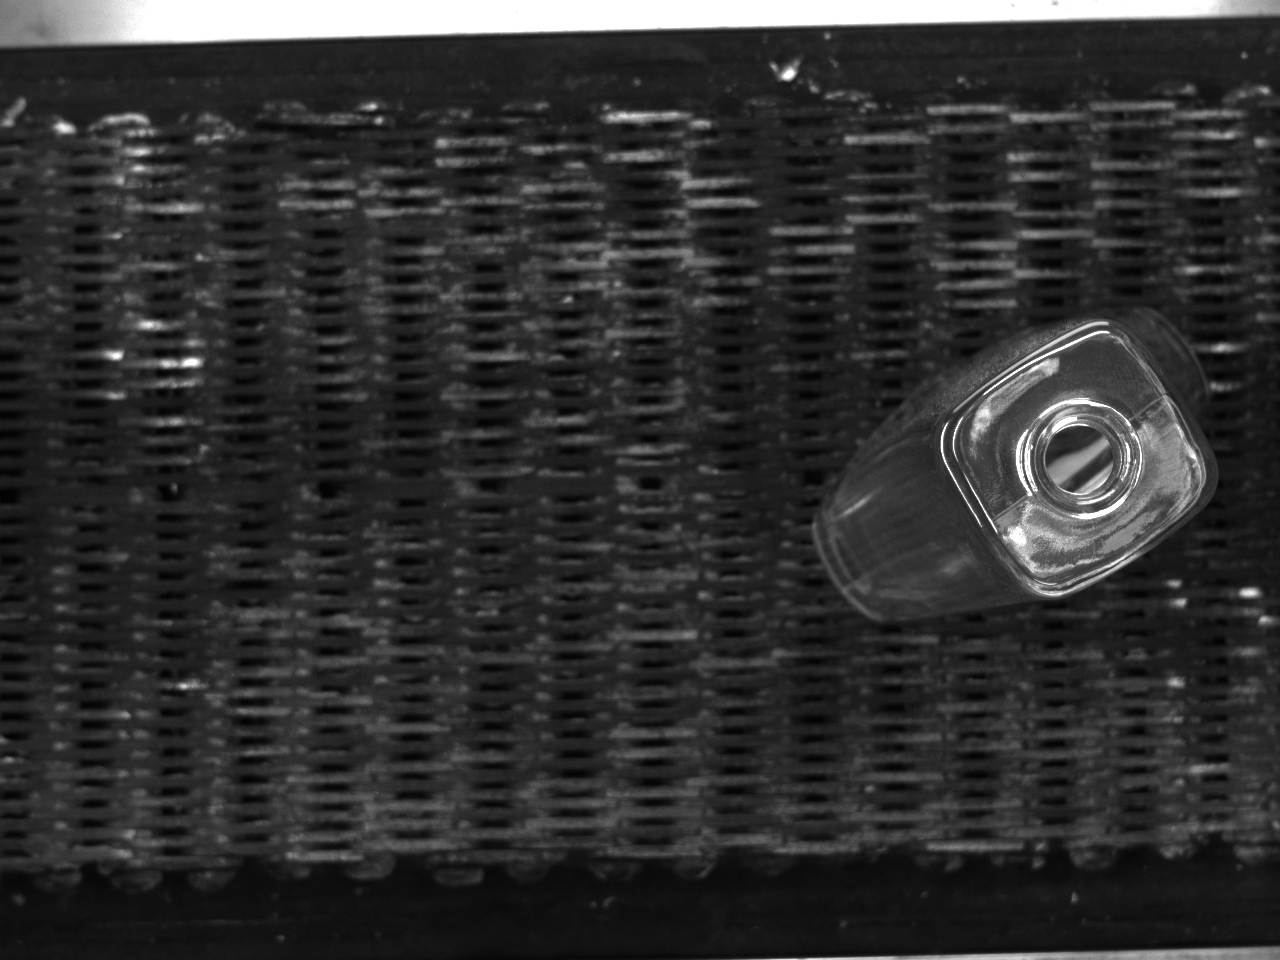bottleneck: (1026, 402, 1143, 518)
